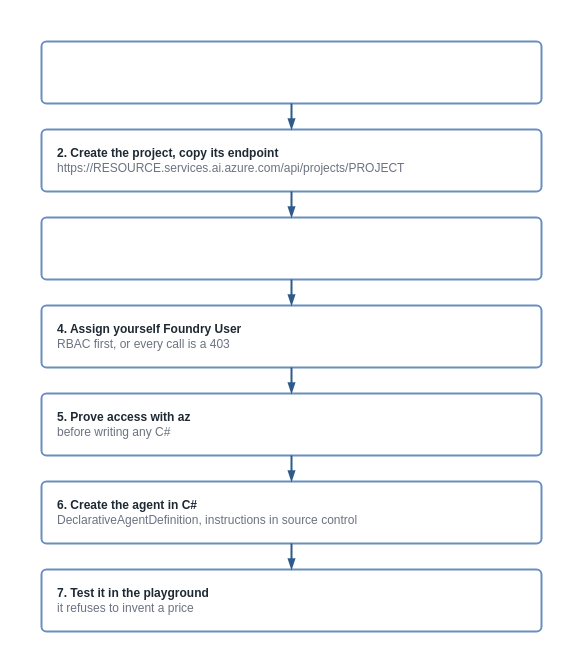
The diagram is 582 pixels wide and 672 high, and some of its shapes have lost their labels. The centre of each missing label's shape, as x and y in pixels:
"1. Create the Foundry resource one Azure resource, one region" goes at [291,72].
"3. Deploy a model the deployment name is what the code uses" goes at [291,248].
